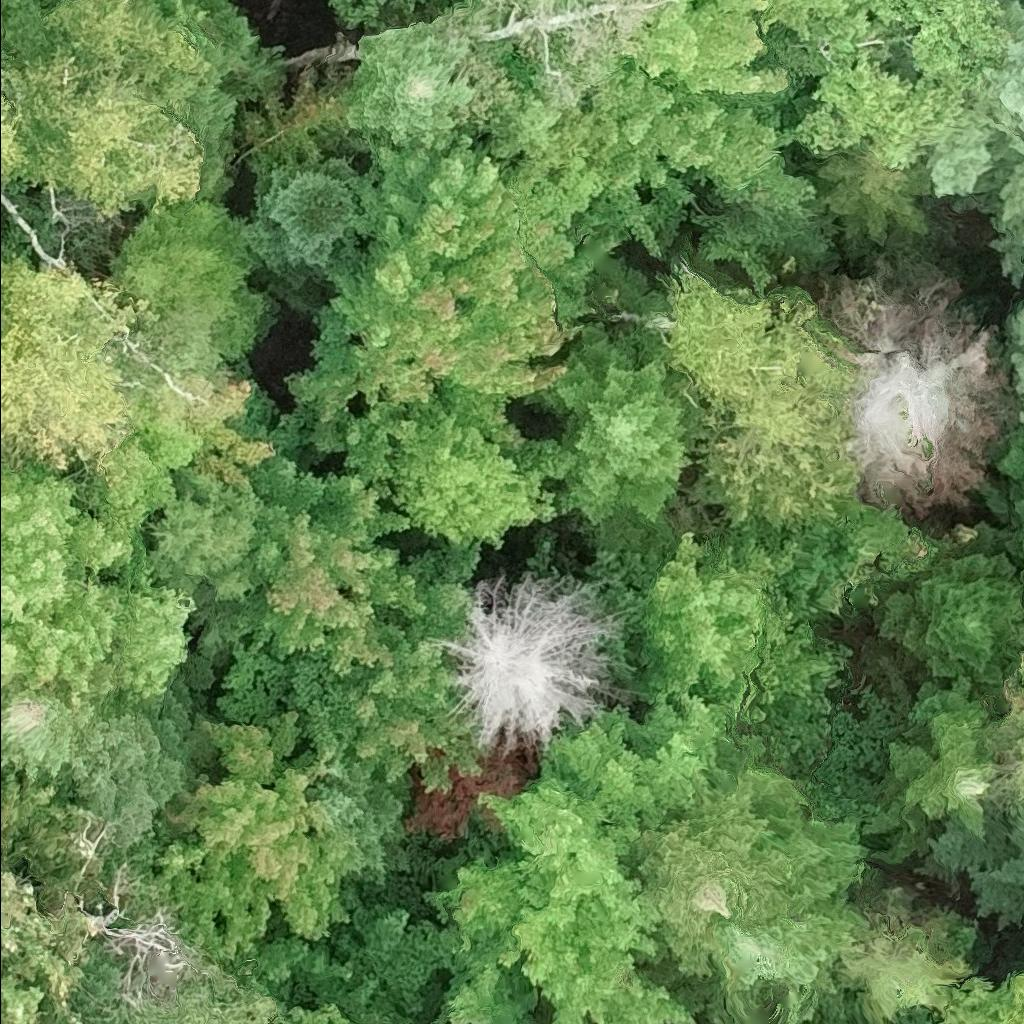crown: (423, 686, 739, 1023), (507, 0, 849, 291), (284, 123, 588, 424), (668, 265, 866, 542), (814, 244, 1009, 517), (0, 0, 215, 232), (289, 541, 487, 792), (160, 706, 351, 962), (636, 526, 834, 740), (428, 564, 641, 757), (248, 454, 426, 681), (524, 326, 707, 533), (863, 516, 1023, 715), (927, 0, 1023, 296), (864, 672, 998, 871), (243, 151, 363, 297), (345, 17, 473, 150), (910, 807, 1023, 928), (914, 968, 1023, 1023), (988, 645, 1023, 774), (992, 293, 1023, 435), (989, 760, 1023, 816), (0, 57, 13, 123), (1011, 521, 1023, 576)
